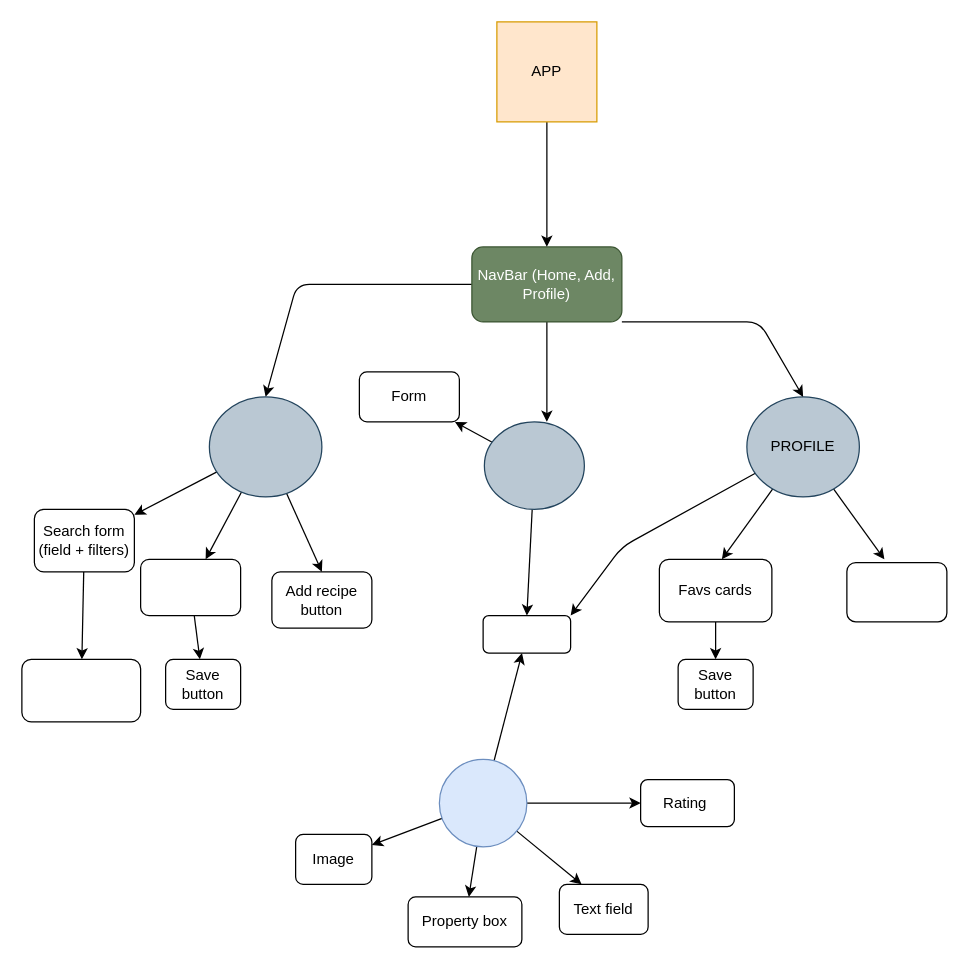
Some shapes in this 969 by 969 pixel diagram are drawn without their labels. The centre of each missing label's shape, as x and y in pixels:
"ADD" goes at (x=533, y=465).
"Expanded recipe" goes at (x=482, y=802).
"Header" goes at (x=526, y=633).
"HOME" goes at (x=265, y=446).
"List" goes at (x=896, y=591).
"mini scroll cards + welcome banner" goes at (x=81, y=690).
"Recipe card" goes at (x=190, y=587).
